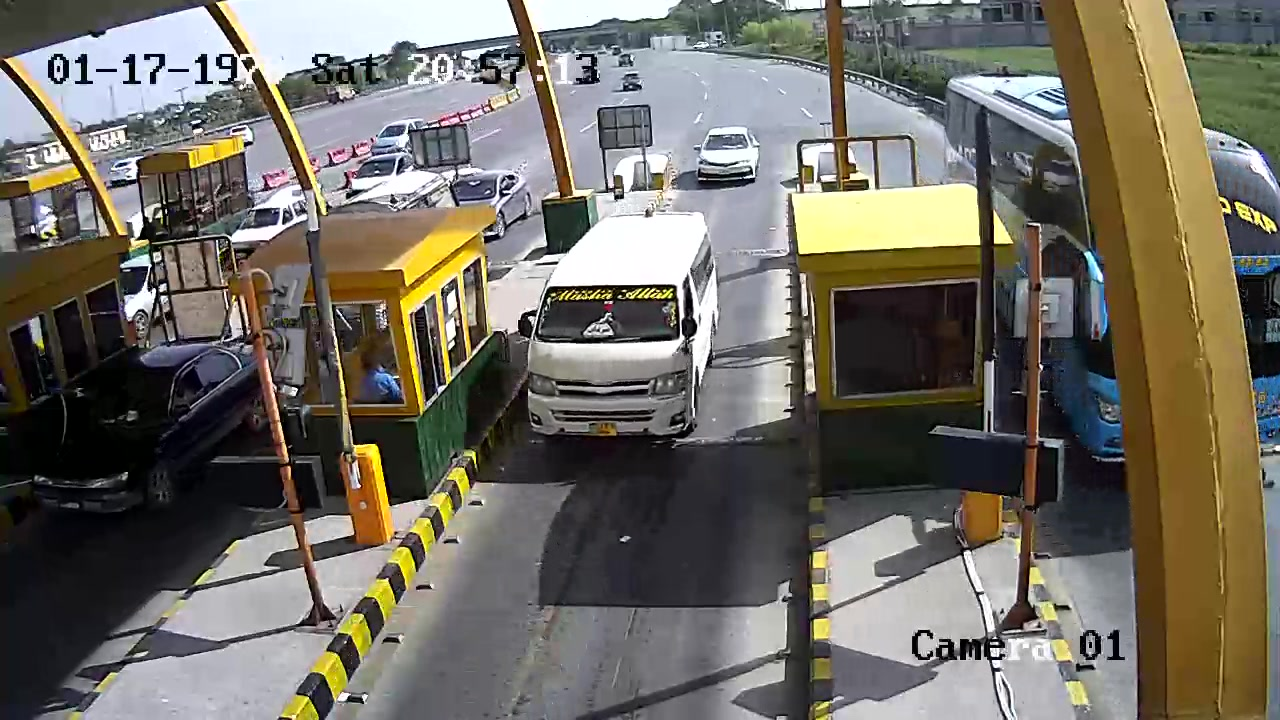F3: (529, 209, 726, 470)
